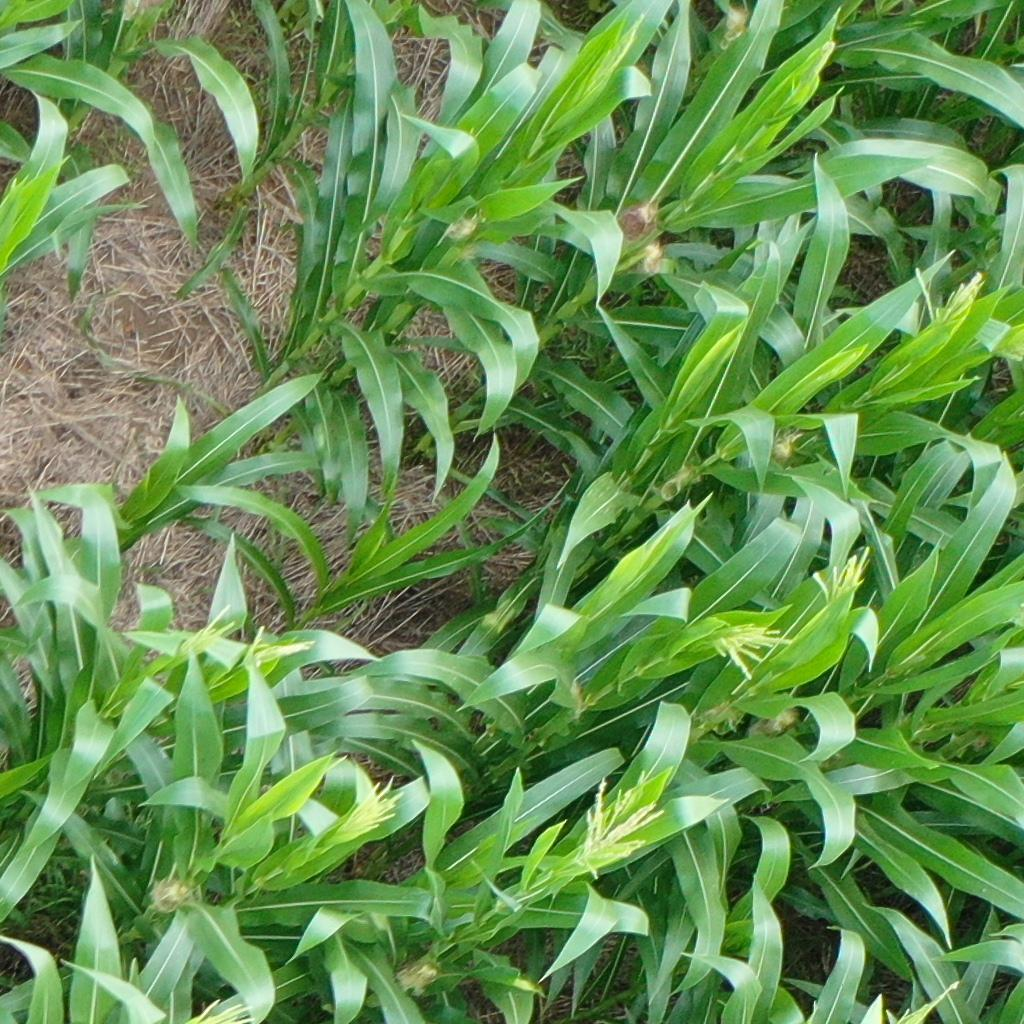Tassel: (570, 768, 668, 882), (705, 619, 796, 680), (909, 258, 989, 324), (334, 774, 399, 845), (246, 625, 319, 676), (175, 596, 236, 656), (893, 974, 962, 1024), (812, 542, 867, 601), (175, 996, 255, 1024)
